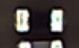COMP: (11, 4, 67, 37)
GAP: (15, 19, 62, 48)
